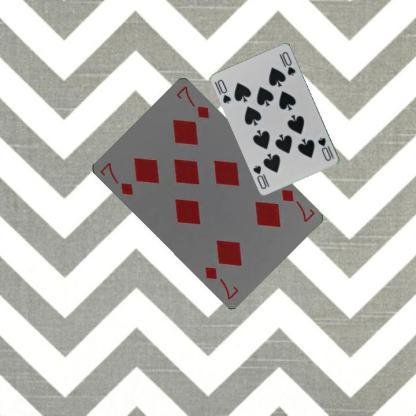10s: (214, 76, 233, 106), (316, 134, 336, 162)
7d: (278, 186, 316, 224), (96, 160, 134, 196)
